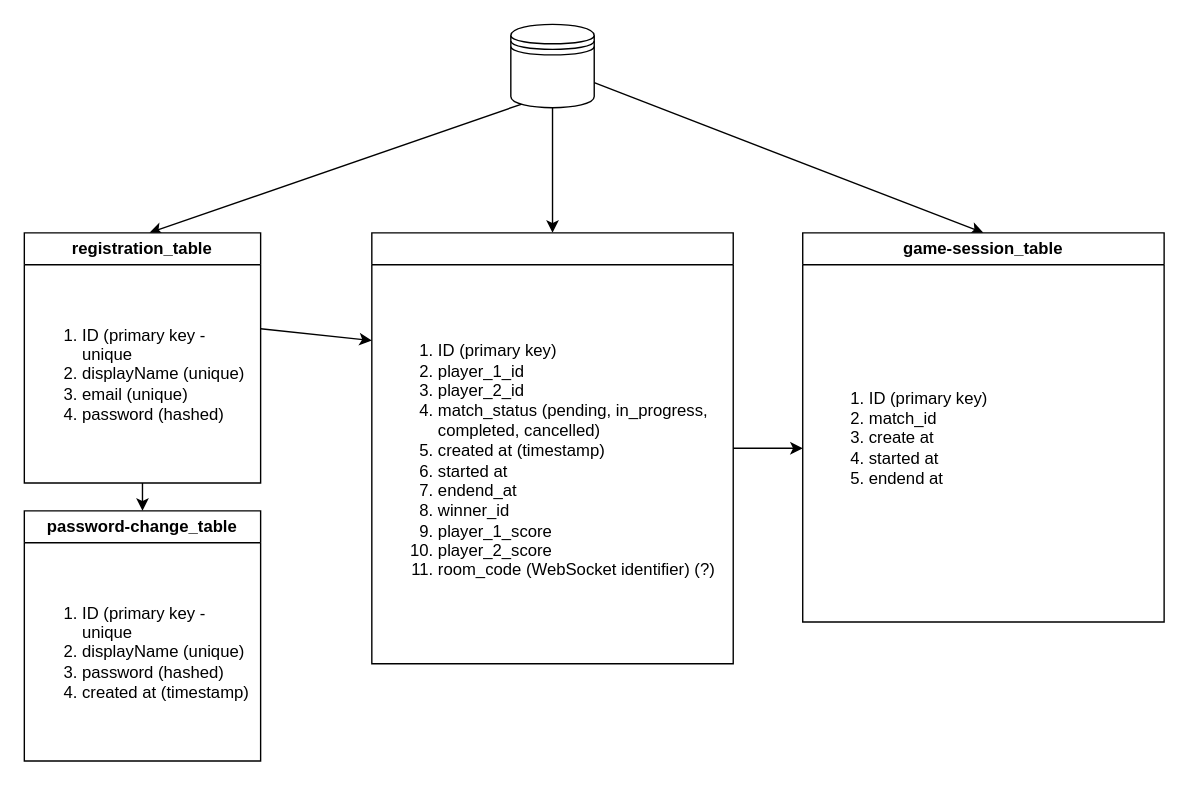
This 1188x785 diagram has some shape labels left out. The box of each missing label's shape, as (x1, y1, x2, y2) in pixels:
match_sessions_table: (370, 231, 733, 664)
SQLite3 DB: (509, 23, 594, 108)
